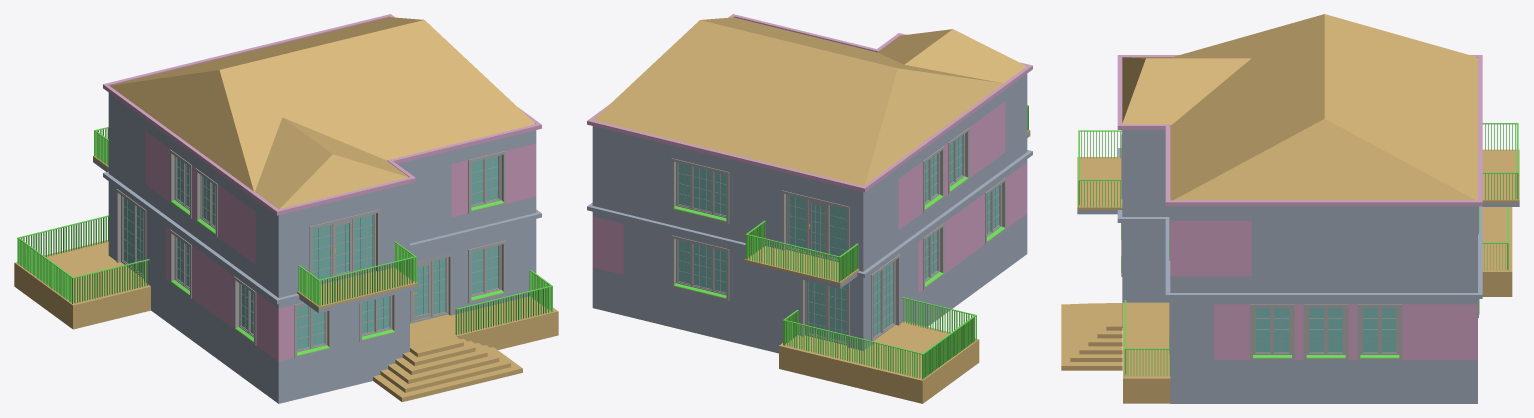
The model's file is House_4_1.FBX.
3 views of the same model, side by side, from view 1: azimuth 30°, elevation 25°; view 2: azimuth 150°, elevation 25°; view 3: azimuth 270°, elevation 25° (orthographic). The views are drawn at different scales.
Parts seen in each view (by area): view 1: H4-mod-1_LOD0; view 2: H4-mod-1_LOD0; view 3: H4-mod-1_LOD0.
Boxes of the visible parts, <box> form: H4-mod-1_LOD0: <box>14,14,558,403</box>; H4-mod-1_LOD0: <box>587,14,1032,403</box>; H4-mod-1_LOD0: <box>1061,14,1519,403</box>.
Size of what is drawn, in the model's own units: 1458 by 977 by 1526.
